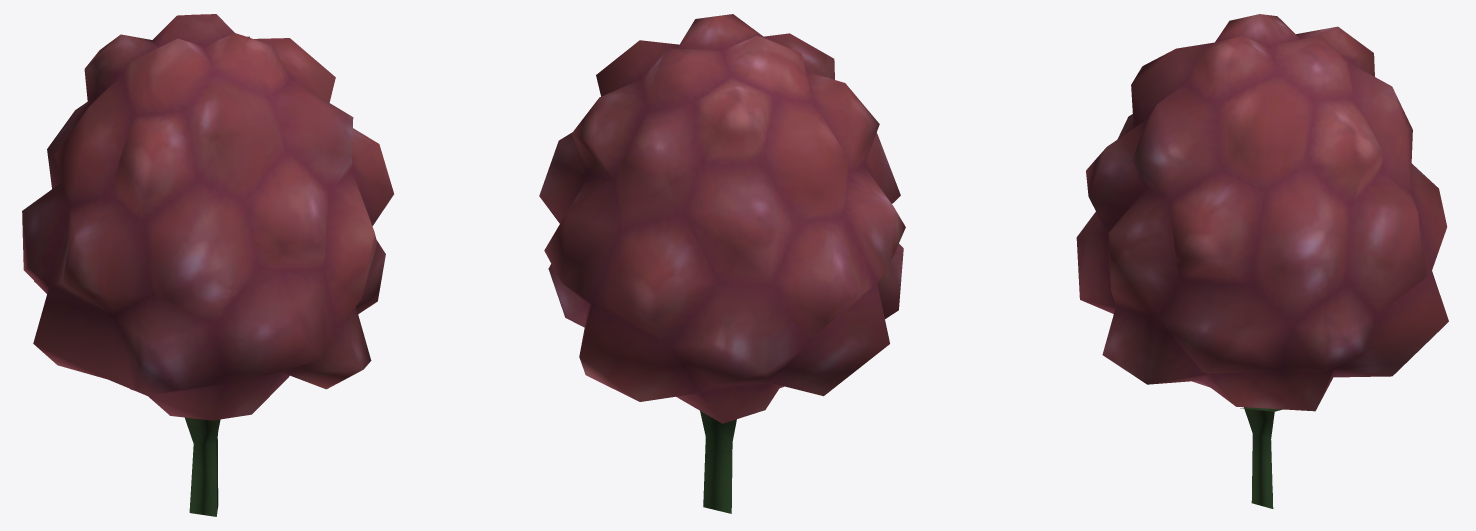
File: Obj_FruitRaspberry_A_01.glb
3 renders of one model, left to right at view 1: azimuth 30°, elevation 25°; view 2: azimuth 150°, elevation 25°; view 3: azimuth 270°, elevation 25°, orthographic. The views are drawn at different scales.
Visible parts, largest first — view 1: Obj_FruitRaspberry_A_01; view 2: Obj_FruitRaspberry_A_01; view 3: Obj_FruitRaspberry_A_01.
Part boxes in pixels (<box>): Obj_FruitRaspberry_A_01: <box>22,14,393,516</box>; Obj_FruitRaspberry_A_01: <box>539,14,905,513</box>; Obj_FruitRaspberry_A_01: <box>1076,14,1448,508</box>.
Size of the model in its own units: 0.3151 by 0.3328 by 0.2908.
Materials: 1 (1 with a texture image).
